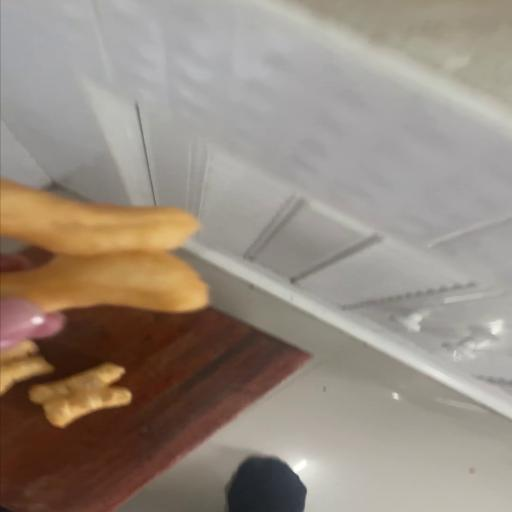street_golden_good: (1, 178, 206, 312)
